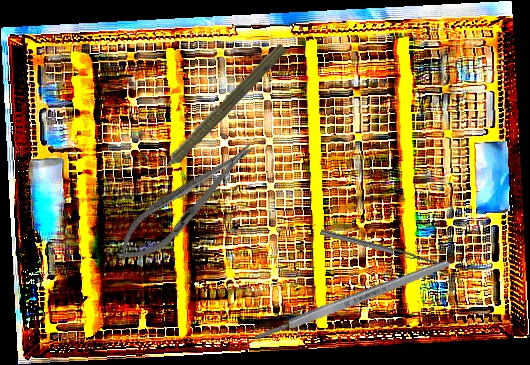Handpiece: (142, 38, 290, 190)
Needle Holder: (106, 130, 266, 275)
Scalpel Handle: (252, 257, 452, 344)
Spatula Surgical: (319, 223, 454, 270)
